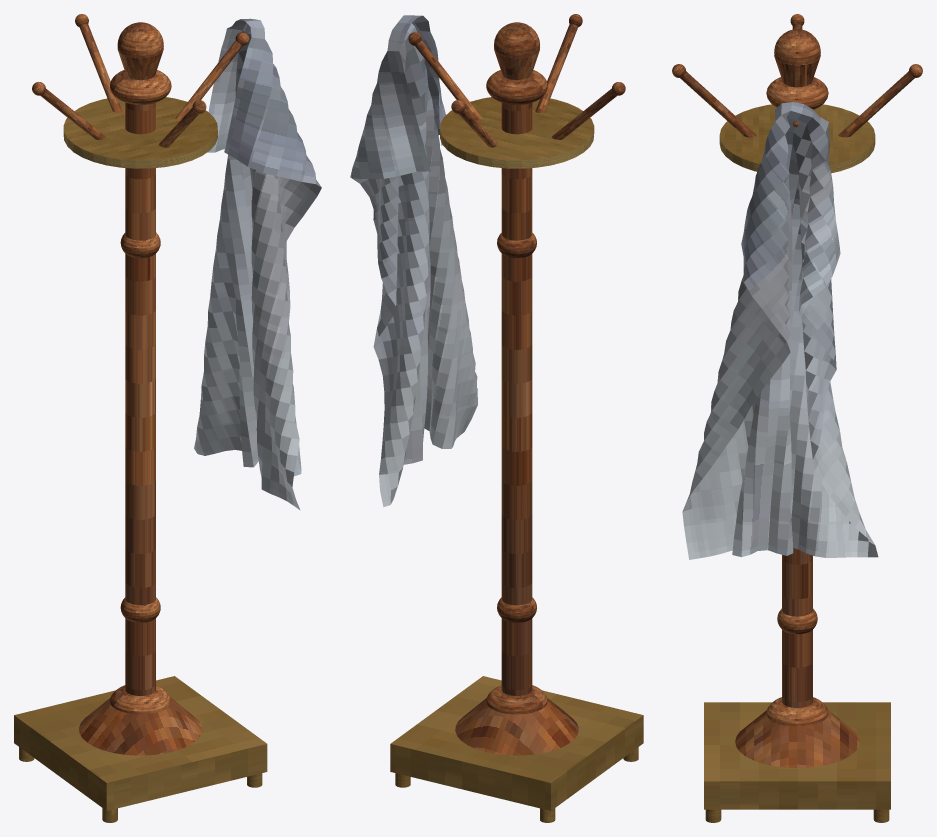
File: coat_hanger (1).glb
3 renders of one model, left to right at view 1: azimuth 30°, elevation 25°; view 2: azimuth 150°, elevation 25°; view 3: azimuth 270°, elevation 25°, orthographic.
Parts seen in each view (by area): view 1: Plane, Sphere.006, Cube, Cylinder.005, Cone.001; view 2: Plane, Sphere.006, Cube, Cylinder.005, Cone.001; view 3: Plane, Sphere.006, Cube, Cylinder.005, Cone.001.
Boxes of the visible parts, x1,y1,x2,y2 form: Plane: (194,18,321,510); Sphere.006: (32,14,249,755); Cube: (14,676,267,810); Cylinder.005: (63,97,217,168); Cone.001: (117,48,163,79); Plane: (350,15,477,507); Sphere.006: (408,14,625,755); Cube: (390,676,643,810); Cylinder.005: (440,97,594,168); Cone.001: (494,48,539,79); Plane: (682,102,878,559); Sphere.006: (672,14,922,767); Cube: (704,702,890,809); Cylinder.005: (719,104,875,173); Cone.001: (774,55,820,87).
Size of the model in its own units: 0.9974 by 2.67 by 0.805.
Materials: 9 (9 with a texture image).
